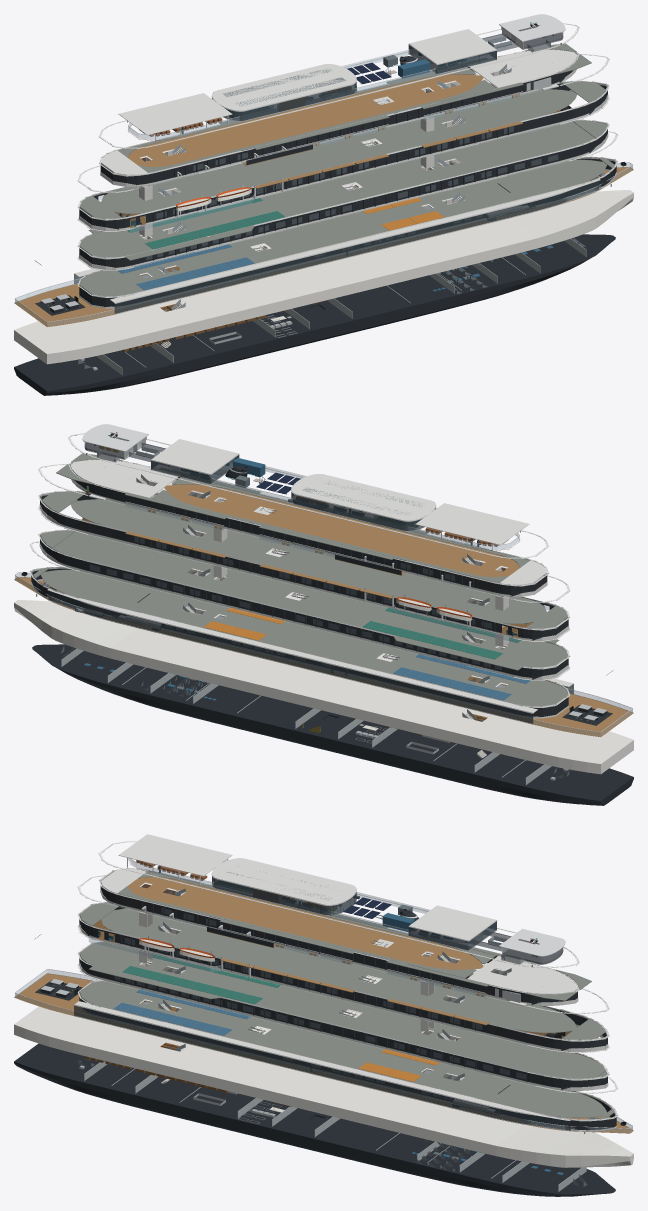
File: vessel_exploded_blender.glb
The picture shows the model from 3 angles, top to bottom: view 1: azimuth 30°, elevation 25°; view 2: azimuth 150°, elevation 25°; view 3: azimuth 330°, elevation 25°; orthographic projection.
Visible parts, largest first — view 1: корпус_надводный_борт, корпус_подводная_часть, настил_окрашенный__главная, настил_окрашенный__средняя, настил_окрашенный__шлюпочная, настил_тик__верхняя, галерея_остекление_л, остекление__средняя, остекление__шлюпочная, остекление__верхняя, атриум_крыша, настил_тик__главная (+28 smaller); view 2: корпус_надводный_борт, корпус_подводная_часть, настил_окрашенный__главная, настил_окрашенный__шлюпочная, настил_окрашенный__средняя, настил_тик__верхняя, галерея_остекление_п, остекление__средняя, остекление__верхняя, остекление__шлюпочная, атриум_крыша, надстройка_борта__средняя (+28 smaller); view 3: корпус_надводный_борт, корпус_подводная_часть, настил_окрашенный__главная, настил_окрашенный__средняя, настил_окрашенный__шлюпочная, настил_тик__верхняя, галерея_остекление_л, остекление__средняя, остекление__шлюпочная, остекление__верхняя, атриум_крыша, надстройка_борта__средняя (+32 smaller).
Part boxes in pixels (bbox=[...]): корпус_надводный_борт: bbox=[14, 190, 633, 364]; корпус_подводная_часть: bbox=[14, 234, 615, 395]; настил_окрашенный__главная: bbox=[80, 159, 606, 296]; настил_окрашенный__средняя: bbox=[80, 121, 607, 269]; настил_окрашенный__шлюпочная: bbox=[101, 89, 577, 213]; настил_тик__верхняя: bbox=[128, 74, 483, 167]; галерея_остекление_л: bbox=[114, 181, 599, 313]; остекление__средняя: bbox=[79, 129, 607, 267]; остекление__шлюпочная: bbox=[79, 83, 607, 228]; остекление__верхняя: bbox=[100, 67, 573, 184]; атриум_крыша: bbox=[212, 64, 356, 111]; настил_тик__главная: bbox=[14, 167, 633, 326]; корпус_надводный_борт: bbox=[14, 600, 633, 774]; корпус_подводная_часть: bbox=[32, 644, 633, 805]; настил_окрашенный__главная: bbox=[41, 569, 567, 706]; настил_окрашенный__шлюпочная: bbox=[70, 499, 546, 623]; настил_окрашенный__средняя: bbox=[40, 531, 567, 679]; настил_тик__верхняя: bbox=[164, 484, 519, 577]; галерея_остекление_п: bbox=[48, 591, 533, 723]; остекление__средняя: bbox=[40, 539, 568, 677]; остекление__верхняя: bbox=[74, 477, 547, 594]; остекление__шлюпочная: bbox=[40, 493, 568, 638]; атриум_крыша: bbox=[291, 474, 435, 521]; надстройка_борта__средняя: bbox=[30, 529, 570, 680]; корпус_надводный_борт: bbox=[14, 1006, 633, 1167]; корпус_подводная_часть: bbox=[14, 1043, 615, 1196]; настил_окрашенный__главная: bbox=[80, 981, 606, 1117]; настил_окрашенный__средняя: bbox=[79, 942, 607, 1090]; настил_окрашенный__шлюпочная: bbox=[101, 908, 585, 1051]; настил_тик__верхняя: bbox=[127, 877, 483, 969]; галерея_остекление_л: bbox=[74, 1005, 570, 1130]; остекление__средняя: bbox=[79, 958, 607, 1087]; остекление__шлюпочная: bbox=[79, 906, 607, 1049]; остекление__верхняя: bbox=[100, 886, 577, 1002]; атриум_крыша: bbox=[212, 858, 356, 905]; надстройка_борта__средняя: bbox=[77, 941, 618, 1093].
Size of what is drawn, in the model's own units: 141 by 55.44 by 16.8.
